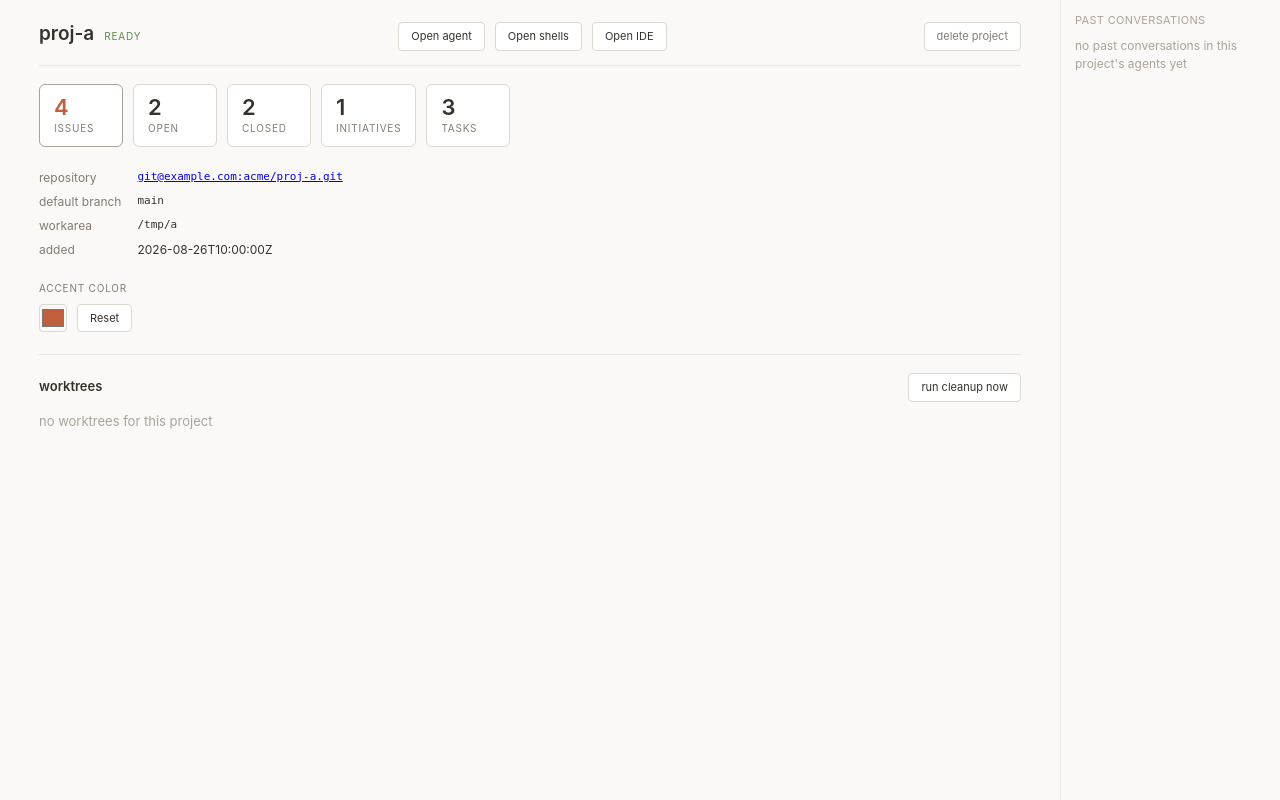
Test: ProjectSummaryComponent › open-the-ide button (#831) › shows an error and re-arms the button when minting the main-checkout session fails (#831)
This screenshot has width=1280, height=800.
Click the button with class "open-ide-button" at (629, 36), box [592, 22, 667, 50]
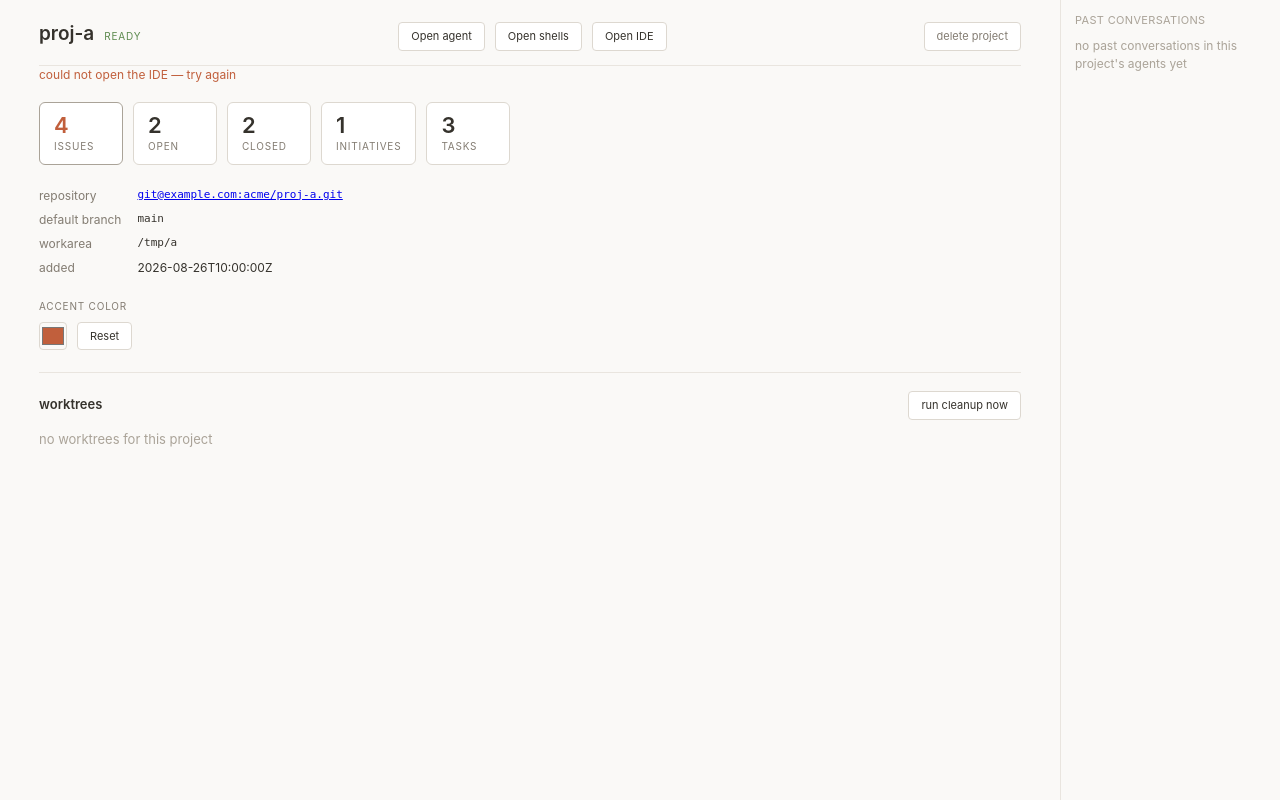
expect the text "could not open the IDE" is shown: met, box [39, 66, 236, 82]
